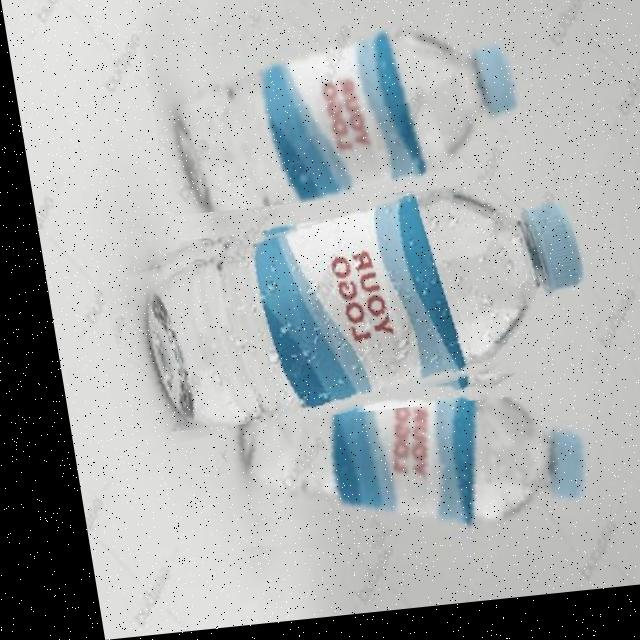plasticbottle: (84, 178, 595, 438), (193, 350, 592, 583), (135, 0, 548, 219)
plasticbottlecap: (486, 204, 581, 358), (497, 394, 587, 522), (452, 36, 532, 152)
